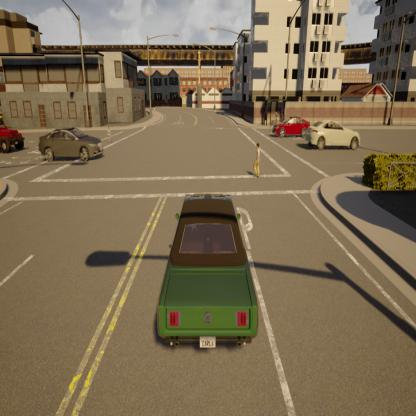Cars: (152, 187, 264, 355), (35, 123, 108, 166), (304, 118, 364, 155), (270, 110, 313, 141), (0, 114, 28, 159)
Pedestrian: (251, 140, 264, 178), (104, 124, 114, 147)
